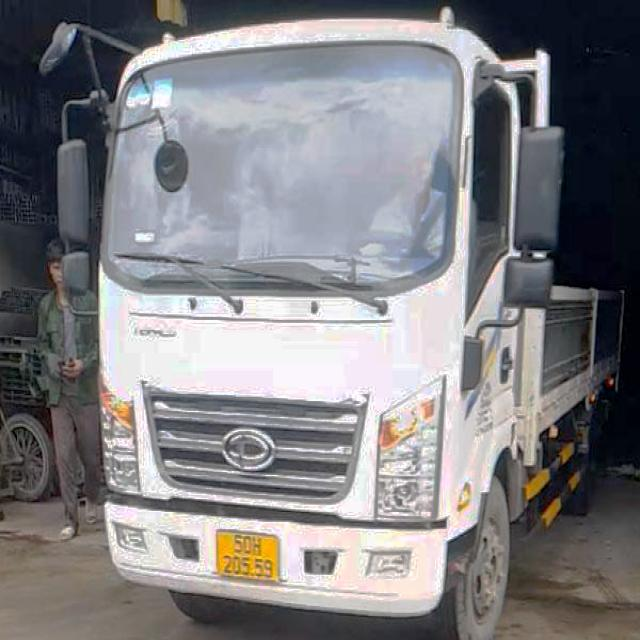license_plate: (218, 532, 281, 583)
